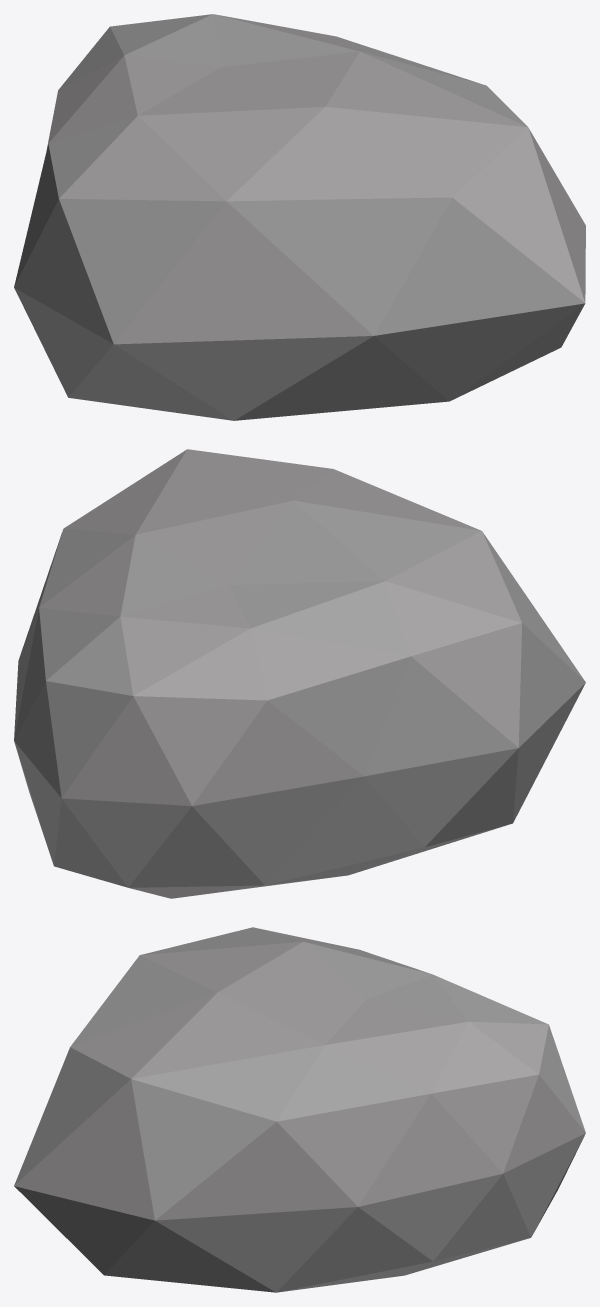
Rendered from Rock6.fbx.
3 renders of one model, top to bottom at view 1: azimuth 30°, elevation 25°; view 2: azimuth 150°, elevation 25°; view 3: azimuth 270°, elevation 25°, orthographic. The views are drawn at different scales.
Parts seen in each view (by area): view 1: Small Rock 1; view 2: Small Rock 1; view 3: Small Rock 1.
Part boxes in pixels (x1,y1,x2,y2): Small Rock 1: (14,14,585,420); Small Rock 1: (14,449,585,898); Small Rock 1: (14,927,585,1292).
Bounding box in the file's own units: 96.56 × 84.98 × 46.94.
